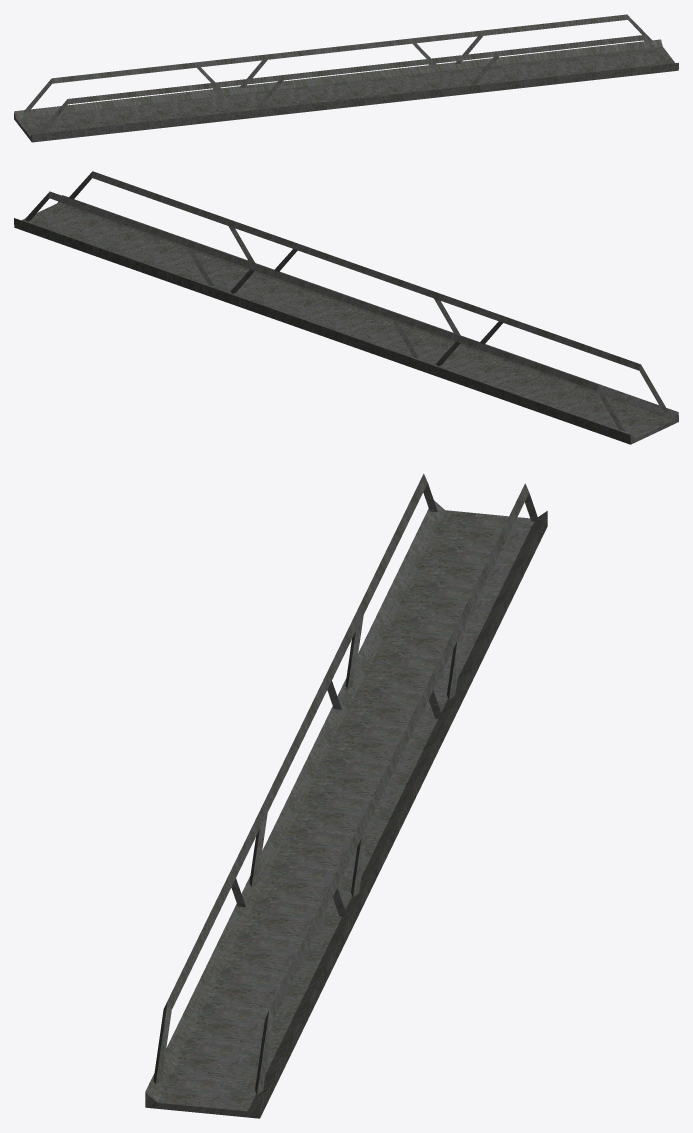
Rendered from des_rail_lod.obj.
The picture shows the model from 3 angles, top to bottom: view 1: azimuth 30°, elevation 25°; view 2: azimuth 150°, elevation 25°; view 3: azimuth 270°, elevation 25°; orthographic projection. The views are drawn at different scales.
Parts seen in each view (by area): view 1: des_rail_LOD; view 2: des_rail_LOD; view 3: des_rail_LOD.
Part boxes in pixels (x1,y1,x2,y2): des_rail_LOD: (14, 14, 678, 142); des_rail_LOD: (14, 171, 678, 444); des_rail_LOD: (145, 473, 547, 1118).
Bounding box in the file's own units: 169 × 14.69 × 50.41.
1 material, 1 textured.
